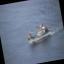fishing boat: (24, 20, 54, 46)
